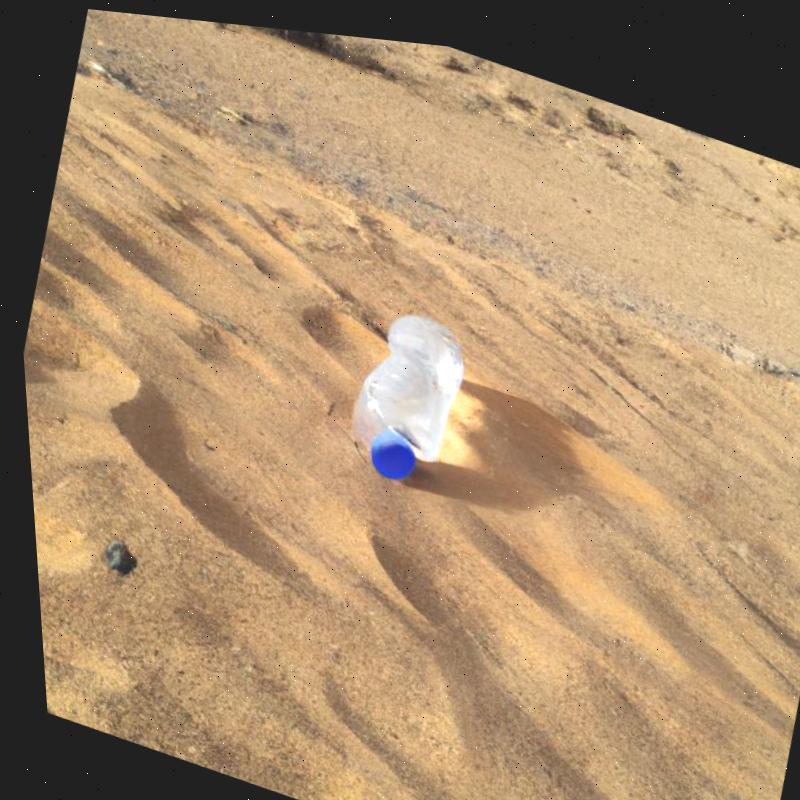botella: (328, 291, 482, 495)
